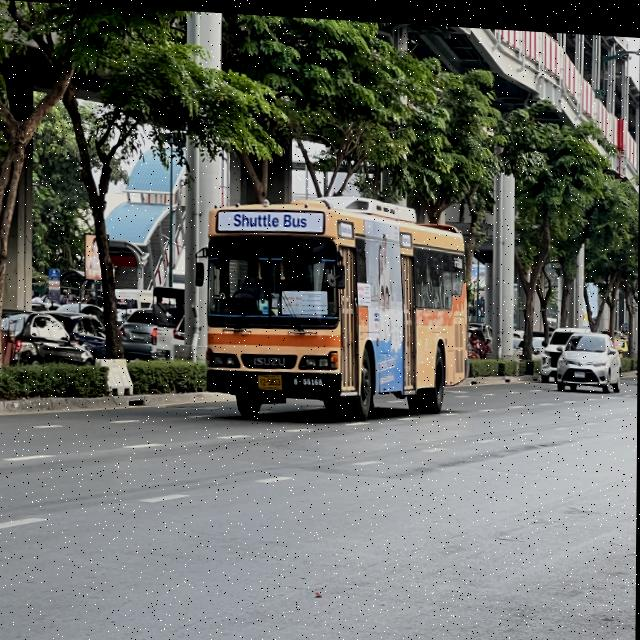BMTA-bus: (190, 180, 475, 432)
Bus-Line-Number: (229, 207, 309, 228)
Destination-Sign-Extra-Bus: (281, 286, 328, 311)
